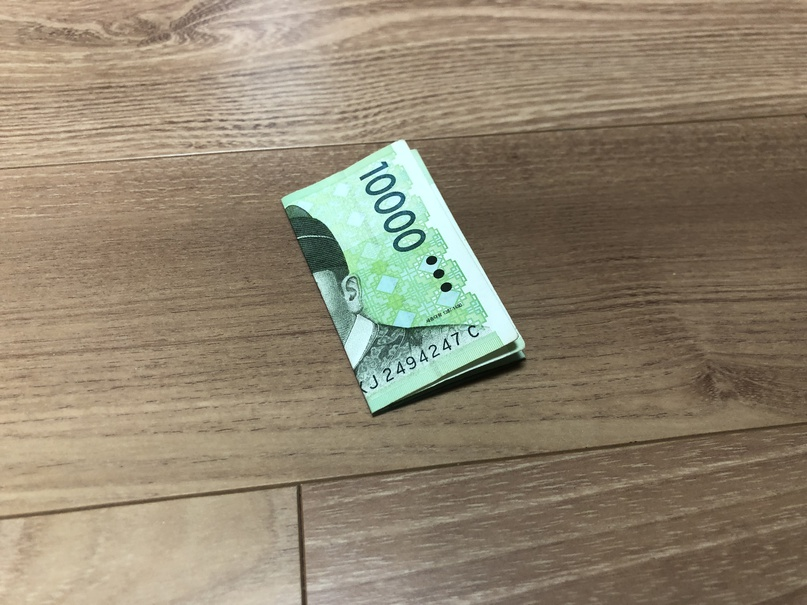10000won: (280, 136, 524, 416)
